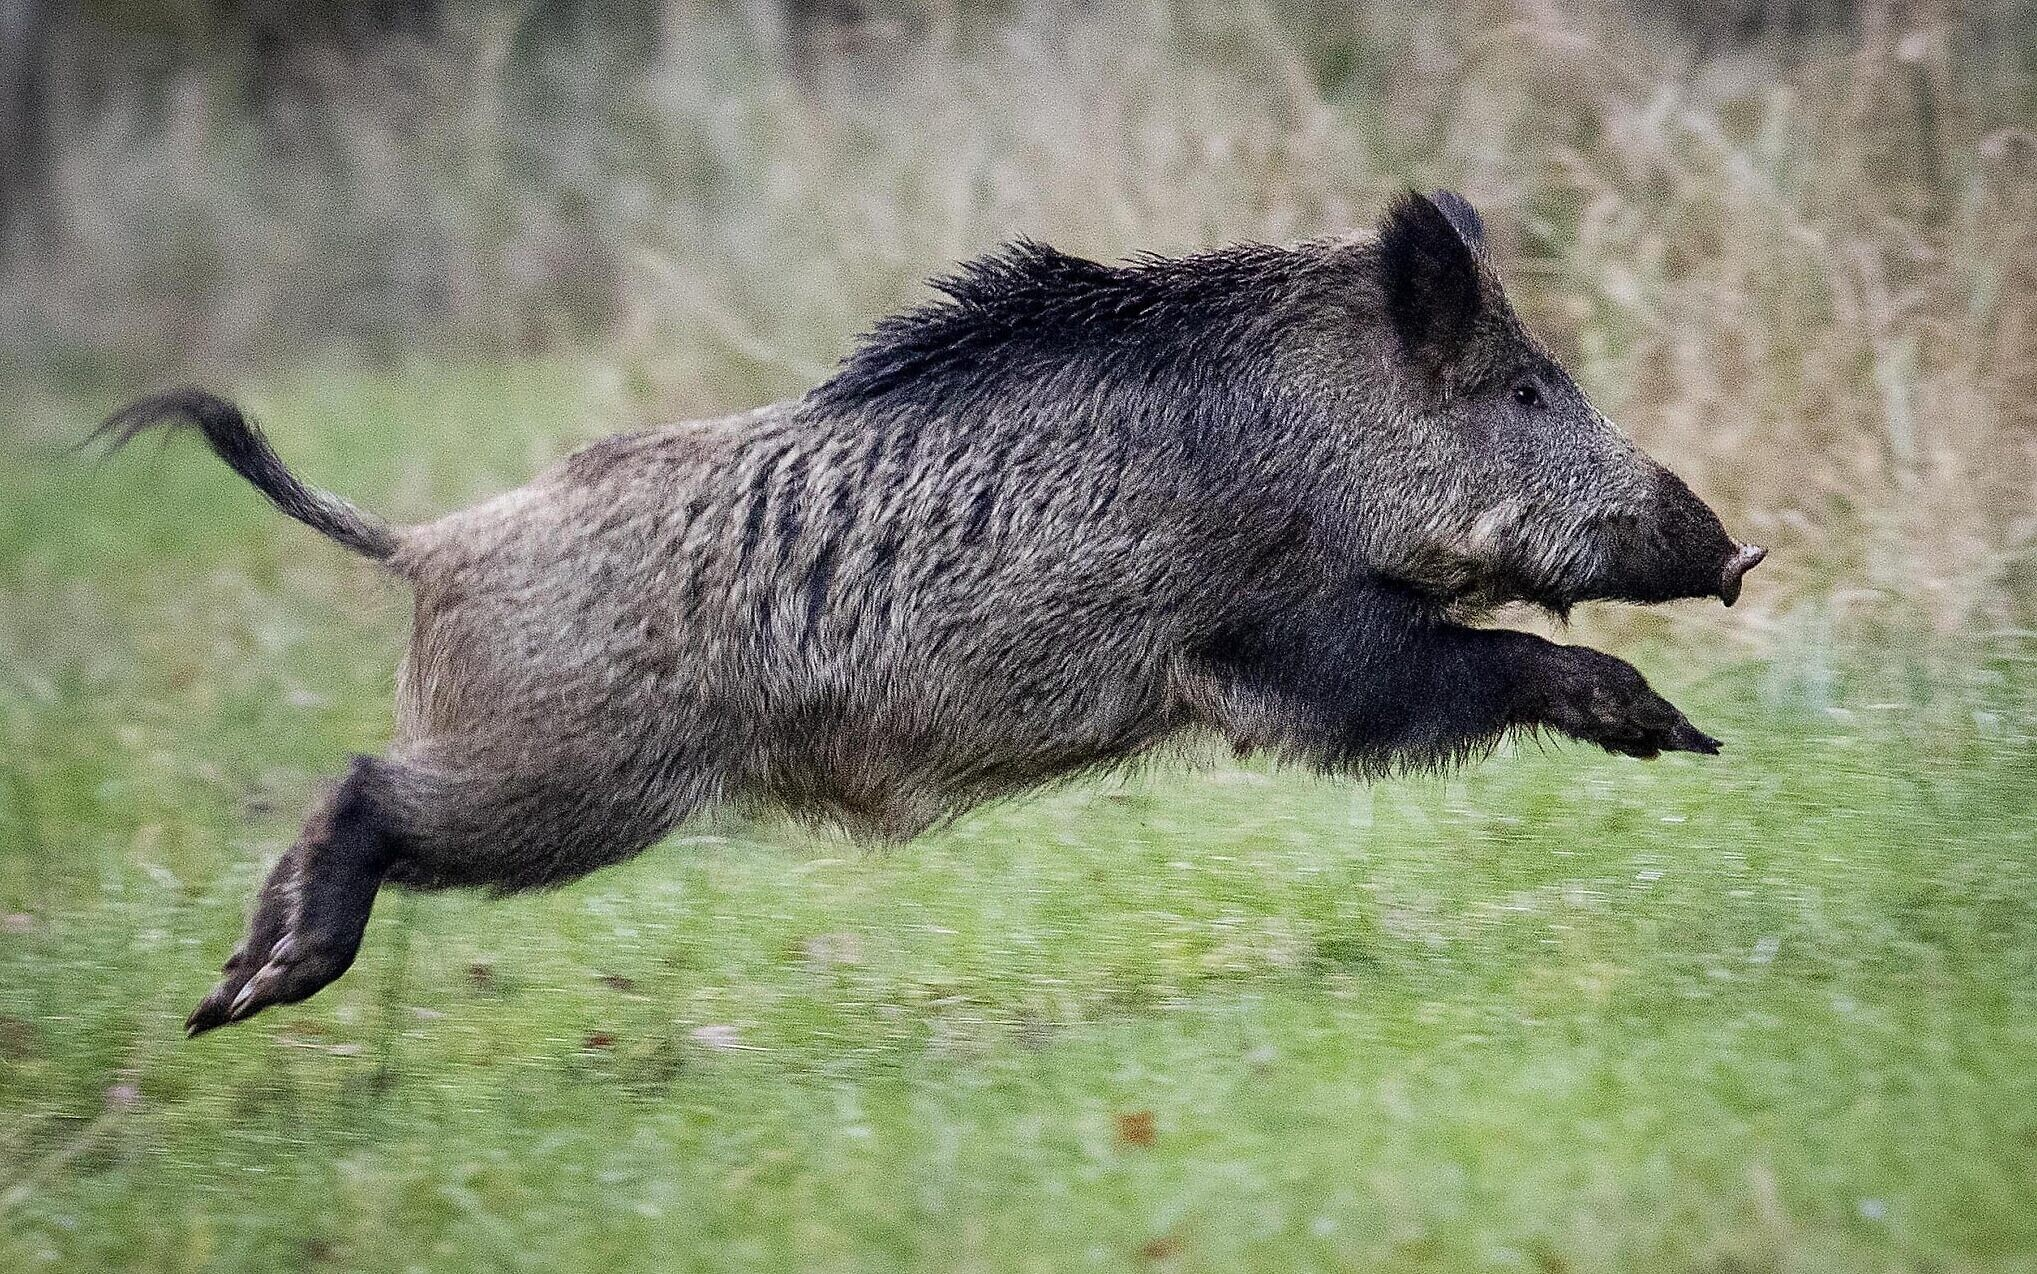boar: (109, 164, 1779, 1054)
